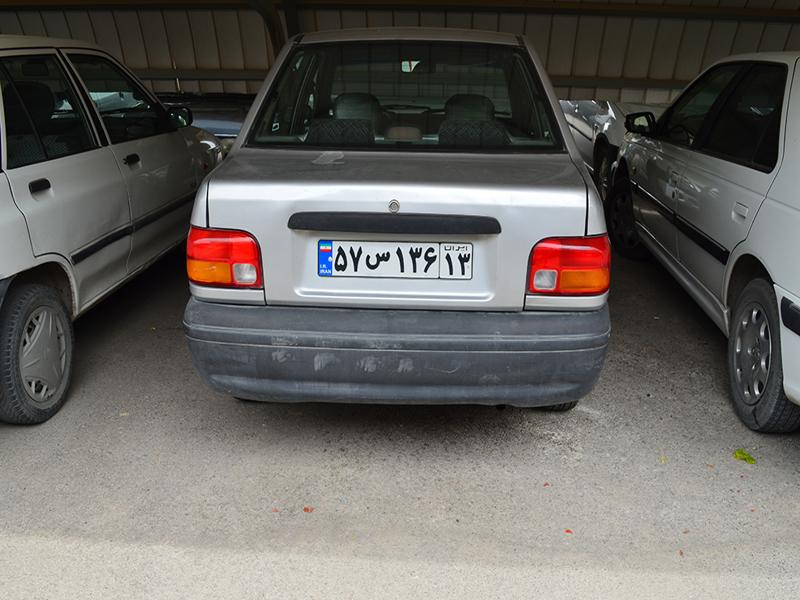Plate: (302, 231, 487, 289)
